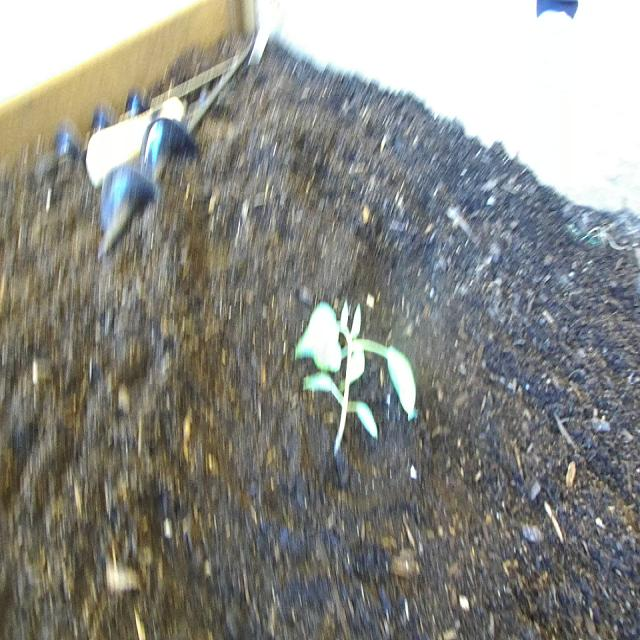Healthy: (286, 284, 429, 484)
